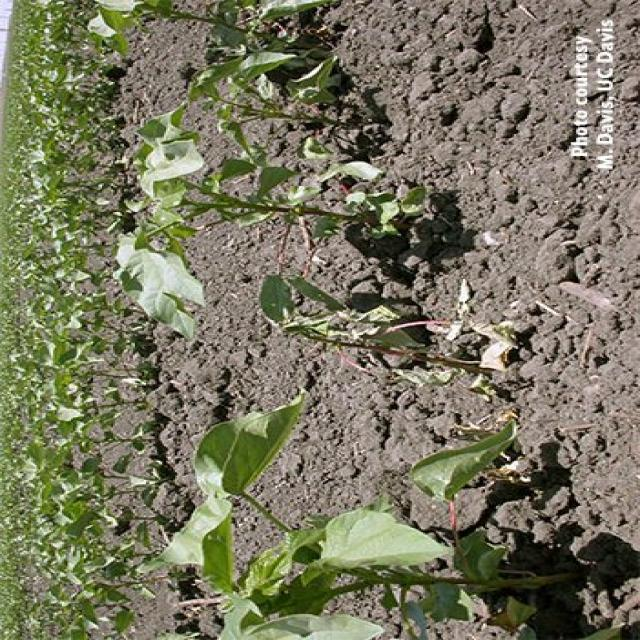Fusarium Wilt: (39, 5, 558, 640)
